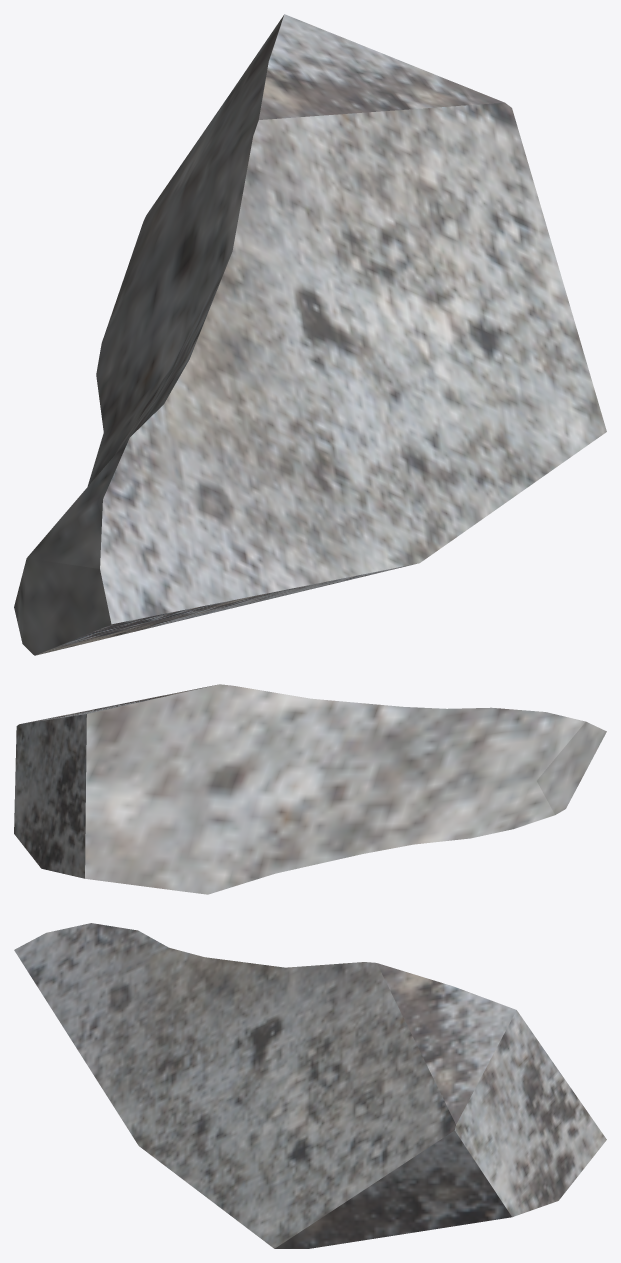
File: Asteroid_Large_001_02_005_03_003.fbx
3 views of the same model, one above another, from view 1: azimuth 30°, elevation 25°; view 2: azimuth 150°, elevation 25°; view 3: azimuth 270°, elevation 25° (orthographic). The views are drawn at different scales.
Parts seen in each view (by area): view 1: Asteroid_Large_001_02_005_03_003; view 2: Asteroid_Large_001_02_005_03_003; view 3: Asteroid_Large_001_02_005_03_003.
Boxes of the visible parts, box(x1,y1,x2,y2) form: Asteroid_Large_001_02_005_03_003: box(14, 14, 606, 655); Asteroid_Large_001_02_005_03_003: box(14, 684, 606, 894); Asteroid_Large_001_02_005_03_003: box(14, 923, 606, 1248).
Bounding box in the file's own units: 7.99 × 3.26 × 8.63.
